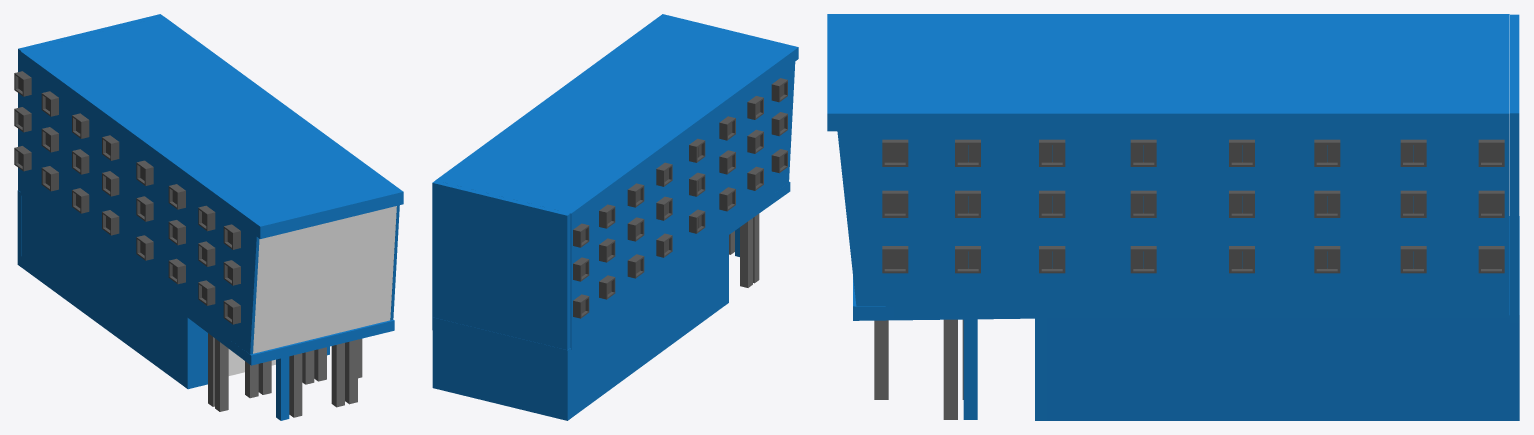
File: marinebuilding.glb
3 renders of one model, left to right at view 1: azimuth 30°, elevation 25°; view 2: azimuth 150°, elevation 25°; view 3: azimuth 270°, elevation 25°, orthographic. The views are drawn at different scales.
Visible parts, largest first — view 1: pCube4, pCube3, pCube5, pCube21, pCube1, pCube20, pCube15, pCube8, pCube9, pCube10, pCube11, pCube6 (+31 smaller); view 2: pCube4, pCube3, pCube6, pCube21, pCube23, pCube14, pCube15, pCube52, pCube54, pCube53, pCube37, pCube43 (+19 smaller); view 3: pCube2, pCube4, pCube22, pCube6, pCube12, pCube13, pCube20, pCube11, pCube1, pCube61, pCube62, pCube63 (+21 smaller).
Part boxes in pixels (x1,y1,x2,y2): pCube4: [20, 16, 403, 238]; pCube3: [20, 64, 259, 354]; pCube5: [253, 206, 396, 353]; pCube21: [21, 196, 183, 385]; pCube1: [181, 312, 394, 365]; pCube20: [183, 315, 329, 389]; pCube15: [215, 338, 228, 411]; pCube8: [276, 356, 289, 420]; pCube9: [289, 353, 302, 417]; pCube10: [331, 343, 344, 407]; pCube11: [345, 339, 357, 404]; pCube6: [18, 14, 163, 191]; pCube4: [435, 14, 798, 225]; pCube3: [570, 62, 795, 349]; pCube6: [432, 180, 570, 349]; pCube21: [571, 238, 724, 417]; pCube23: [432, 317, 570, 420]; pCube14: [740, 218, 752, 287]; pCube15: [753, 214, 759, 283]; pCube52: [627, 217, 644, 241]; pCube54: [627, 183, 644, 207]; pCube53: [627, 254, 644, 278]; pCube37: [771, 78, 787, 102]; pCube43: [719, 150, 735, 174]; pCube2: [837, 131, 1509, 318]; pCube4: [827, 14, 1509, 131]; pCube22: [1047, 315, 1519, 420]; pCube6: [1510, 14, 1519, 322]; pCube12: [943, 319, 957, 419]; pCube13: [963, 319, 977, 419]; pCube20: [1035, 318, 1046, 420]; pCube11: [874, 320, 888, 399]; pCube1: [853, 277, 1034, 320]; pCube61: [1478, 190, 1504, 217]; pCube62: [1478, 246, 1504, 273]; pCube63: [1478, 139, 1504, 166].
Size of the model in its own units: 0.2691 by 0.3566 by 0.7268.
